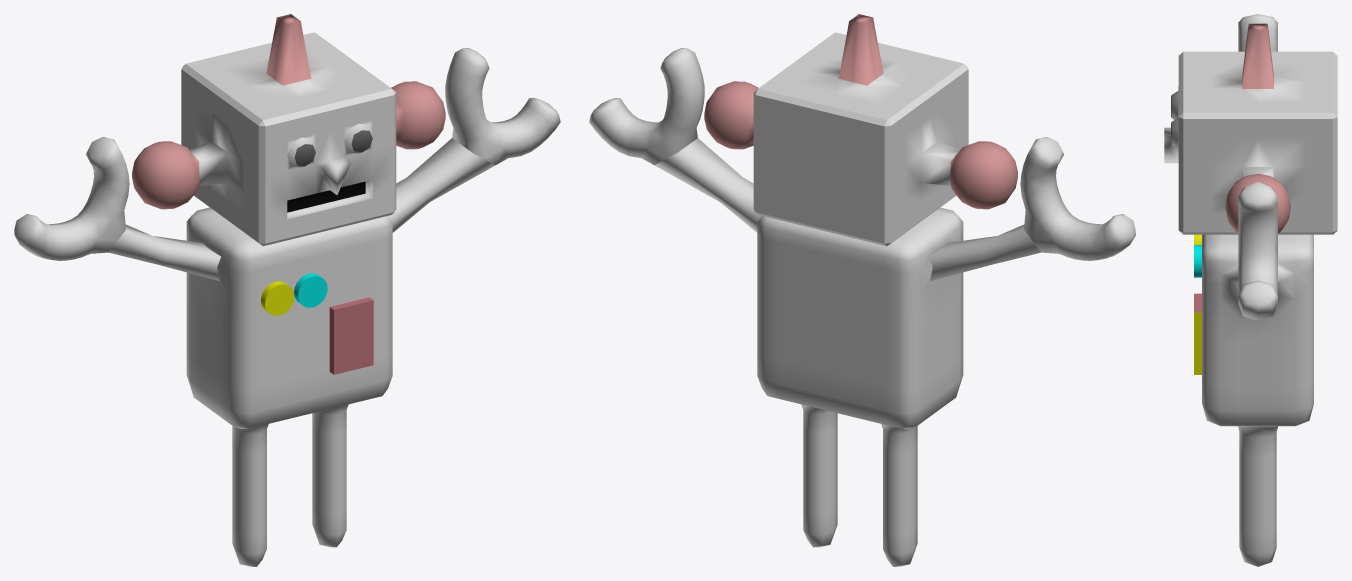
Rendered from ロボット.fbx.
The picture shows the model from 3 angles, left to right: view 1: azimuth 30°, elevation 25°; view 2: azimuth 150°, elevation 25°; view 3: azimuth 270°, elevation 25°; orthographic projection. The views are drawn at different scales.
Parts seen in each view (by area): view 1: pCube9; view 2: pCube9; view 3: pCube9.
Boxes of the visible parts, <box> form: pCube9: <box>14,14,560,566</box>; pCube9: <box>589,14,1135,566</box>; pCube9: <box>1164,14,1337,566</box>.
Bounding box in the file's own units: 4.98 × 4.74 × 1.43.
